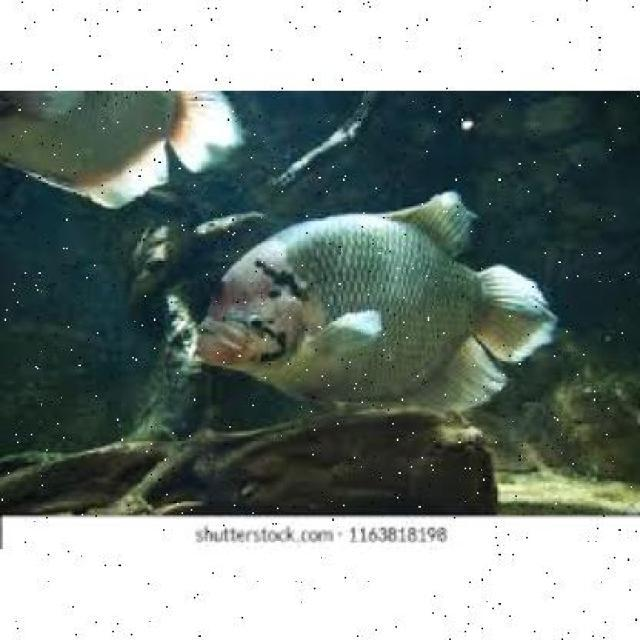gurame: (191, 196, 538, 417)
